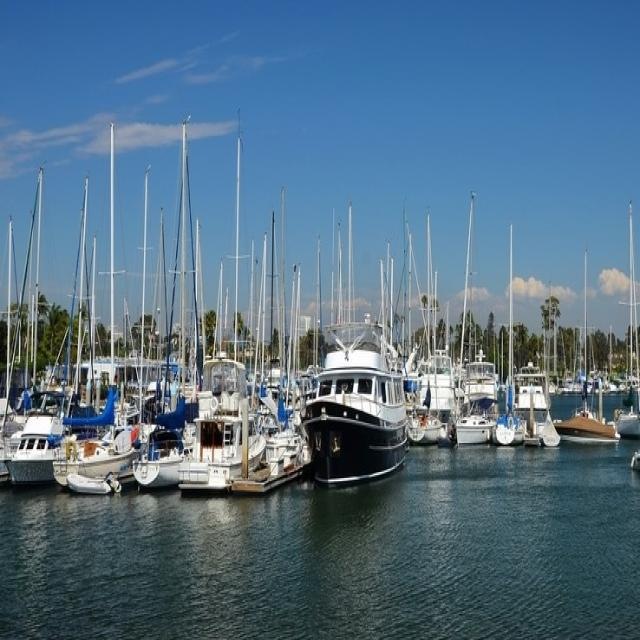houseboat: (309, 343, 416, 494), (446, 362, 497, 438), (520, 374, 562, 444)
